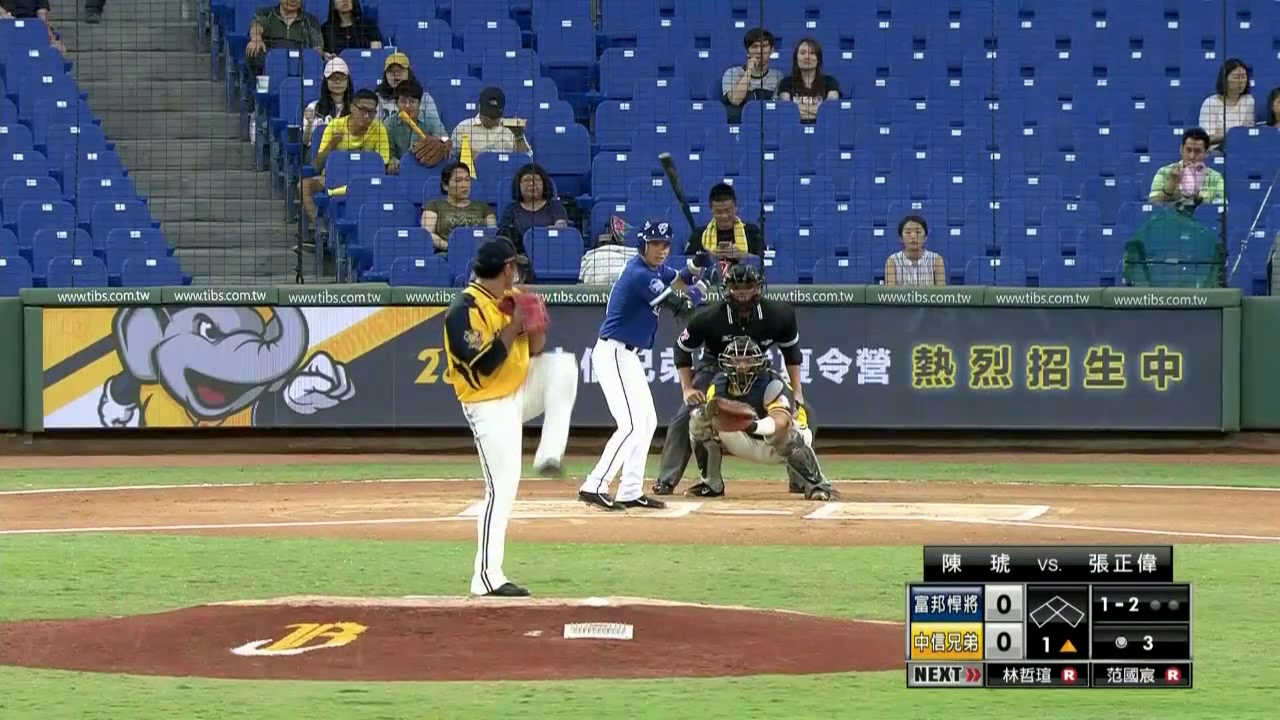ball: (510, 308, 522, 319)
base: (1027, 589, 1090, 631)
bat: (657, 152, 707, 262)
out: (1147, 591, 1189, 621)
score1: (986, 589, 1019, 620)
score2: (993, 626, 1020, 656)
session: (1028, 635, 1086, 657)
strikeball: (1095, 592, 1142, 614)
total: (1111, 634, 1165, 656)
